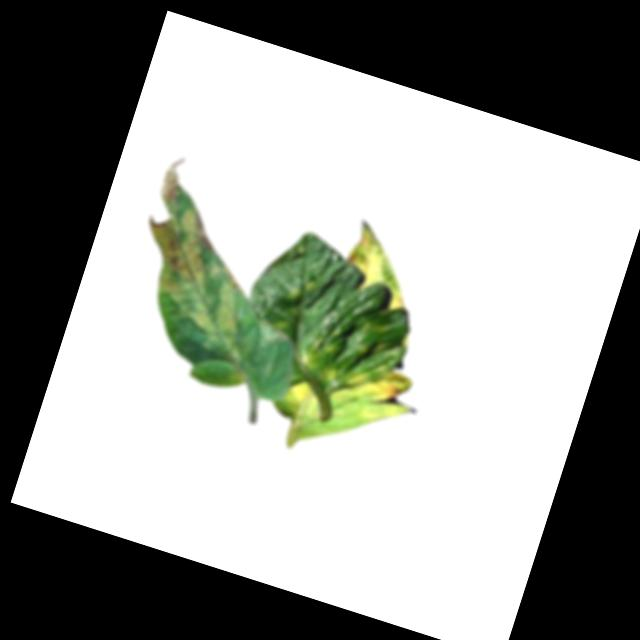Leaf_Mold: (113, 158, 292, 366), (334, 216, 426, 314), (338, 359, 425, 434), (276, 374, 328, 428)
